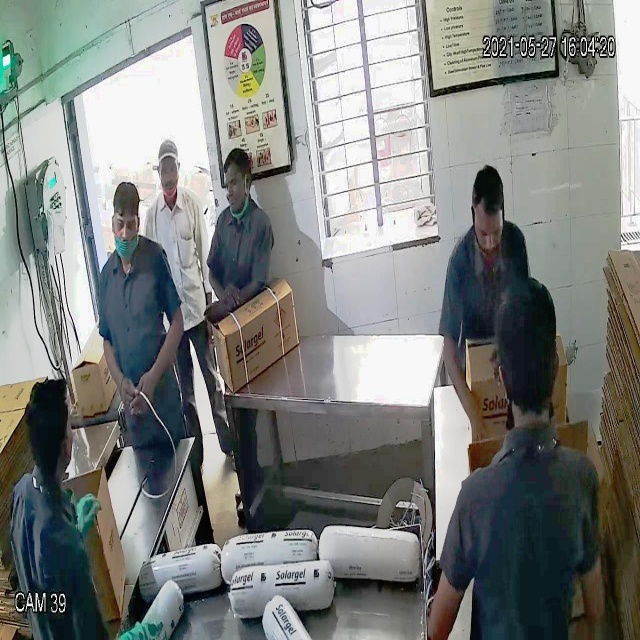Sin_gafas: (104, 208, 146, 240), (468, 219, 509, 249)
